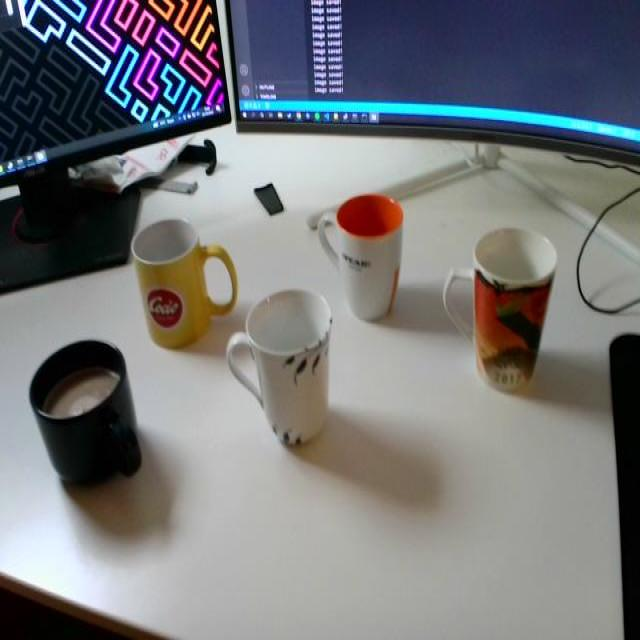cup: (20, 316, 145, 502), (442, 210, 566, 397), (215, 265, 333, 460), (126, 205, 242, 358), (313, 183, 412, 327)
